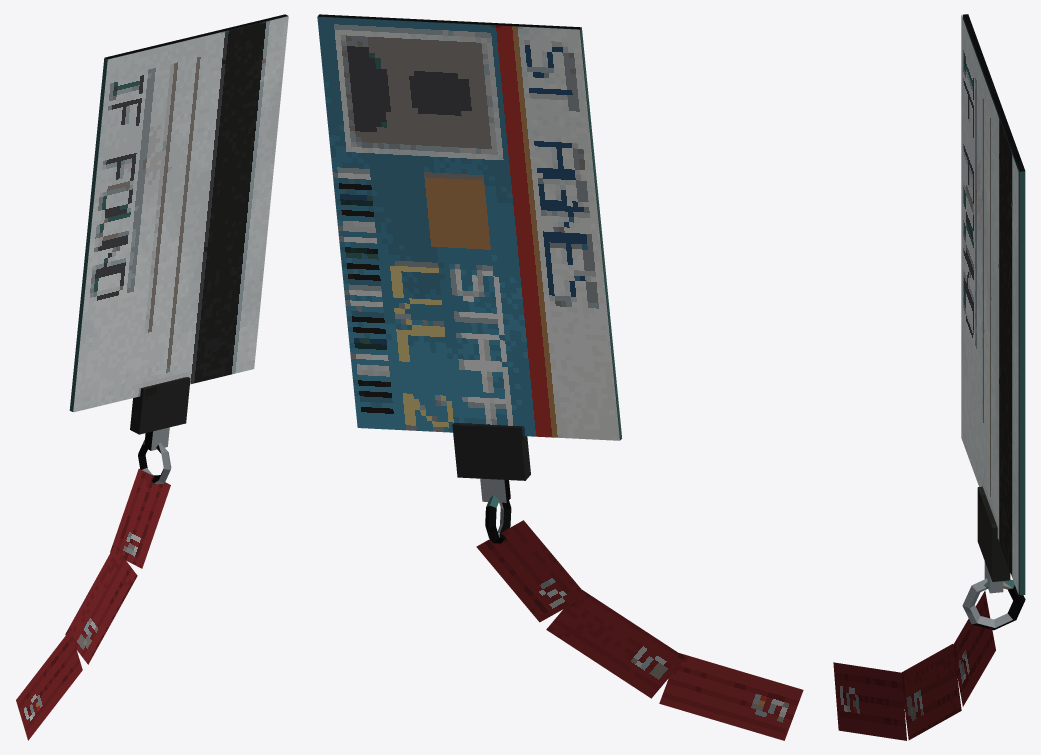
3 views of the same model, side by side, from view 1: azimuth 30°, elevation 25°; view 2: azimuth 150°, elevation 25°; view 3: azimuth 270°, elevation 25° (orthographic). The views are drawn at different scales.
Visible parts, largest first — view 1: px_fp_keycard; view 2: px_fp_keycard; view 3: px_fp_keycard.
Part boxes in pixels (x1=…): px_fp_keycard: x1=16, y1=14, x2=288, y2=740; px_fp_keycard: x1=317, y1=14, x2=803, y2=740; px_fp_keycard: x1=833, y1=14, x2=1025, y2=740.
Size of the model in its own units: 0.0896 by 0.1529 by 0.0336.
1 material, 1 textured.
